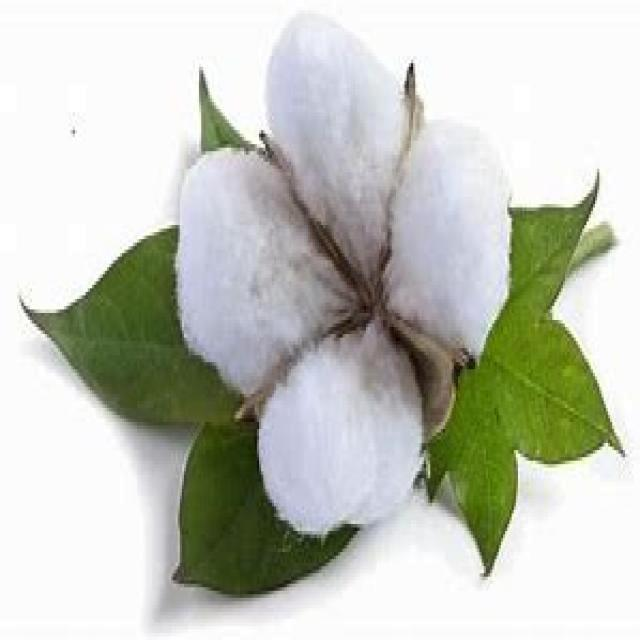Matured Cotton Boll: (174, 16, 518, 538)
